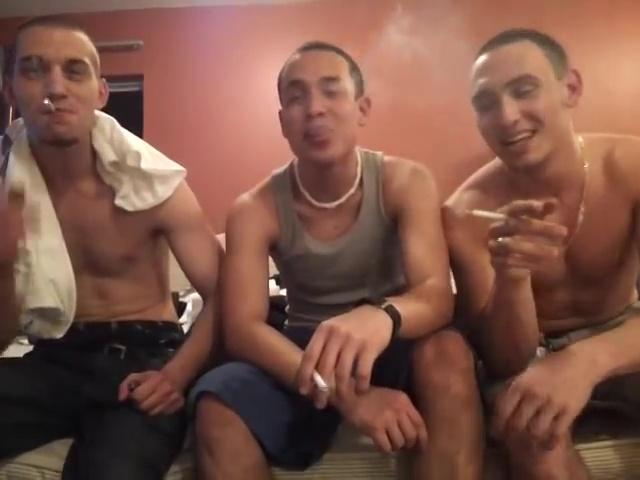cigarette: (465, 207, 515, 222), (310, 367, 331, 396), (42, 96, 60, 116)
